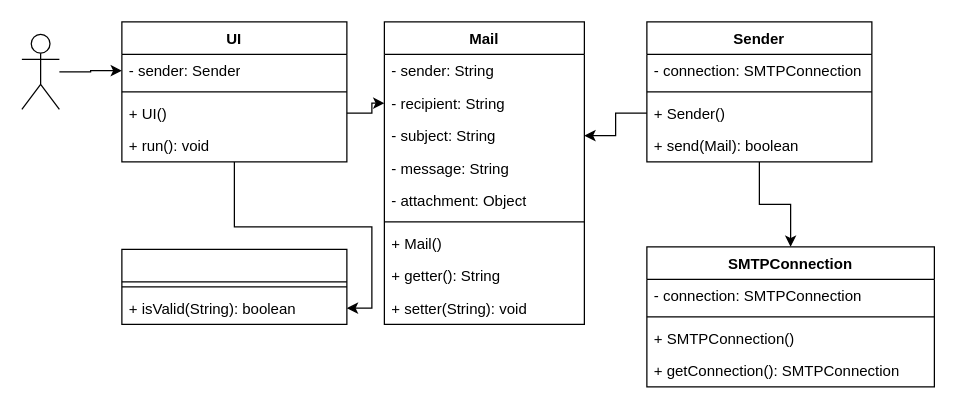
The diagram is 956 pixels wide and 413 high, and some of its shapes have lost their labels. Each missing label, with the box of its shape:
Actor: (21, 33, 59, 109)
MailValidator: (121, 248, 347, 324)
